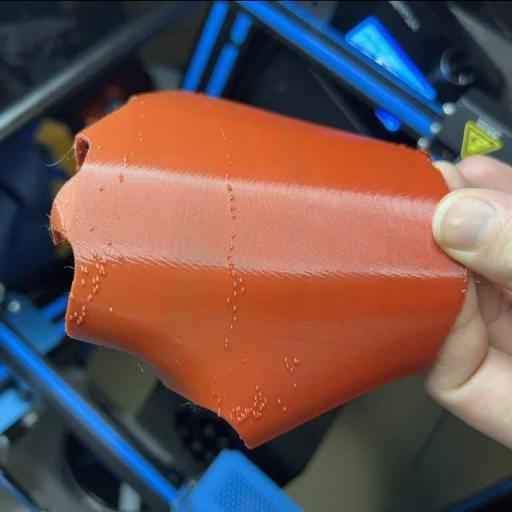blobs: (79, 262, 90, 276), (97, 267, 108, 278), (222, 336, 230, 350), (78, 274, 88, 285), (242, 405, 253, 415), (74, 316, 87, 324), (105, 304, 114, 315), (90, 276, 102, 284), (86, 292, 94, 304), (120, 154, 129, 164), (97, 182, 105, 193), (231, 301, 240, 310), (117, 172, 125, 182), (104, 236, 112, 246), (93, 284, 101, 294), (238, 283, 246, 293), (292, 355, 300, 365), (93, 261, 101, 270), (226, 184, 234, 193), (214, 406, 222, 415), (232, 312, 239, 322), (90, 251, 98, 259), (281, 405, 289, 413), (232, 404, 240, 412), (211, 390, 218, 398), (284, 362, 291, 370), (233, 278, 239, 287), (253, 410, 260, 417), (89, 225, 95, 233), (226, 296, 232, 304), (228, 323, 234, 331), (230, 232, 236, 240), (230, 204, 236, 212), (226, 364, 232, 372), (281, 356, 289, 362), (292, 382, 298, 390), (277, 396, 283, 404), (229, 412, 235, 420), (73, 310, 79, 317), (238, 275, 244, 282), (228, 244, 235, 250), (228, 194, 234, 201), (233, 289, 238, 297), (82, 310, 88, 316), (241, 357, 247, 363), (254, 384, 260, 390), (252, 401, 258, 407), (226, 253, 231, 260), (210, 376, 217, 381), (81, 304, 87, 309), (231, 213, 236, 219), (217, 398, 222, 404), (263, 398, 268, 404), (252, 395, 258, 399)
